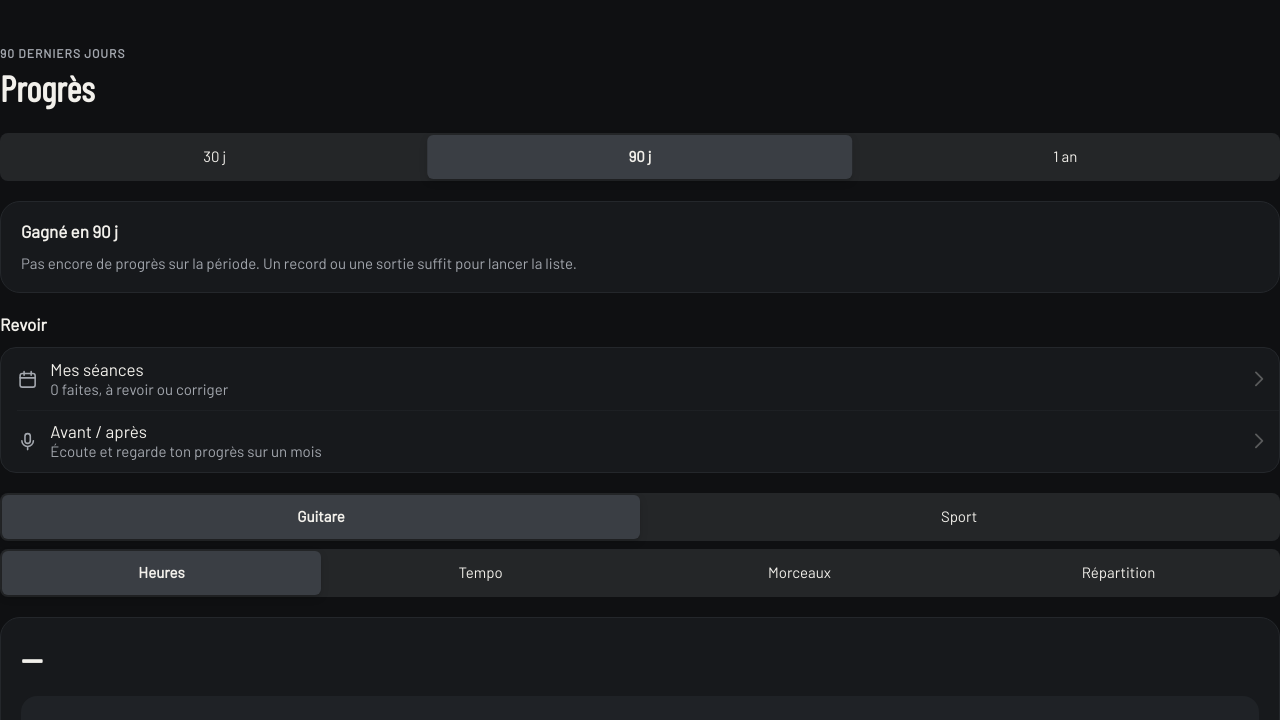
ProgressPage › Mensurations : choix de la mesure
The image size is (1280, 720).
Step 1. Click the button "Sport" → click(959, 517), box [640, 495, 1278, 539]
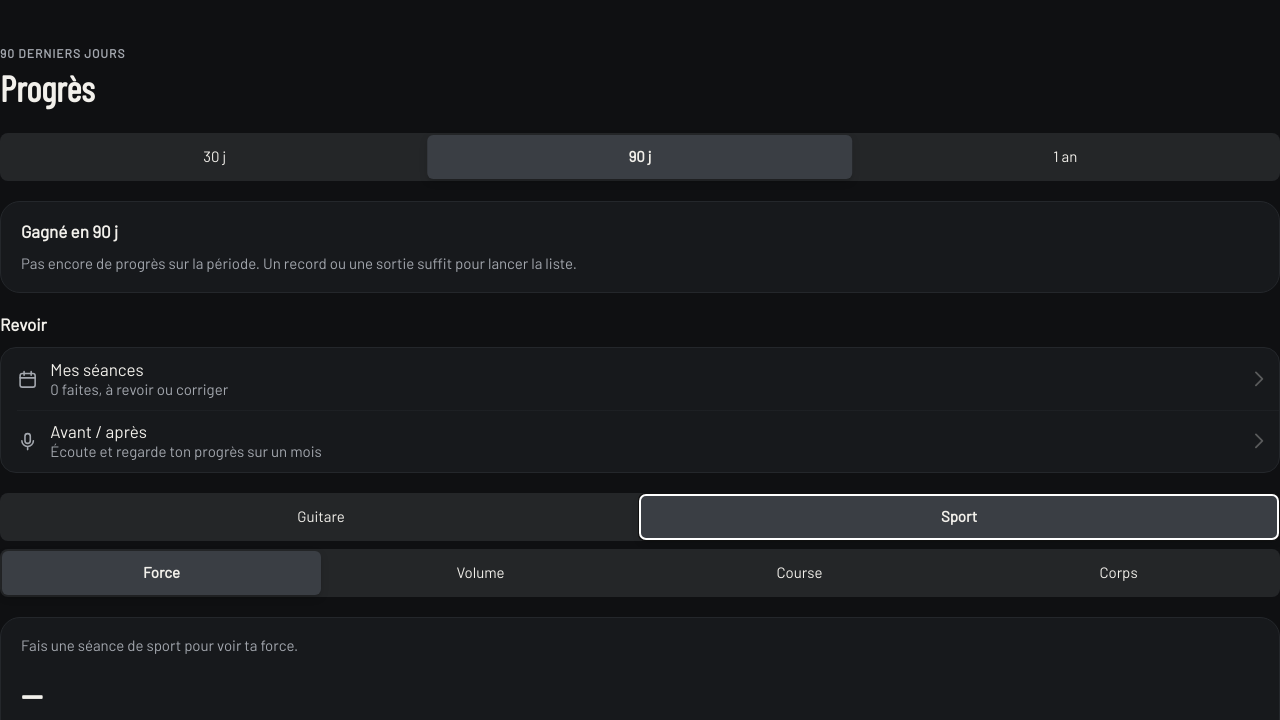
Step 2. Click the button "Corps" → click(1118, 573), box [959, 551, 1278, 595]
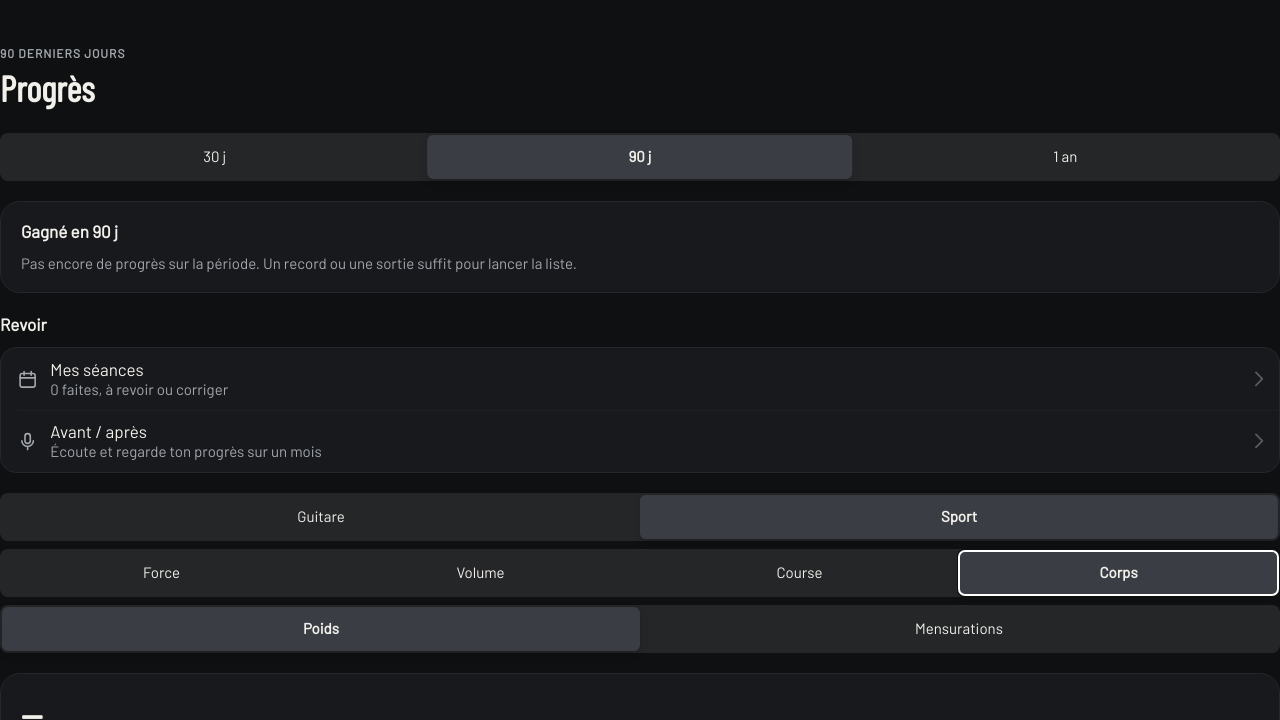
Step 3. Click the button "Mensurations" → click(959, 629), box [640, 607, 1278, 651]
(page scrolled)
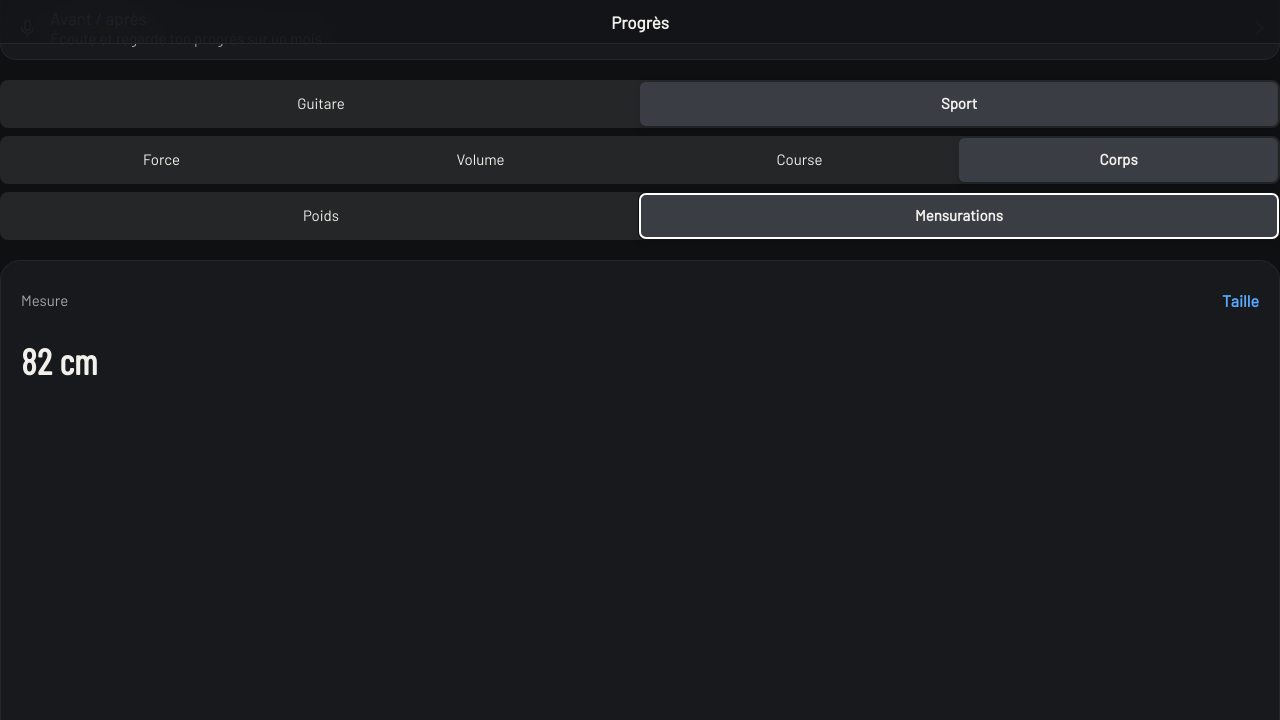
Check: the dropdown labelled "Mesure" shows "Taille", box [1204, 279, 1259, 323]
Check: the text "82 cm" is shown, box [21, 339, 97, 382]
